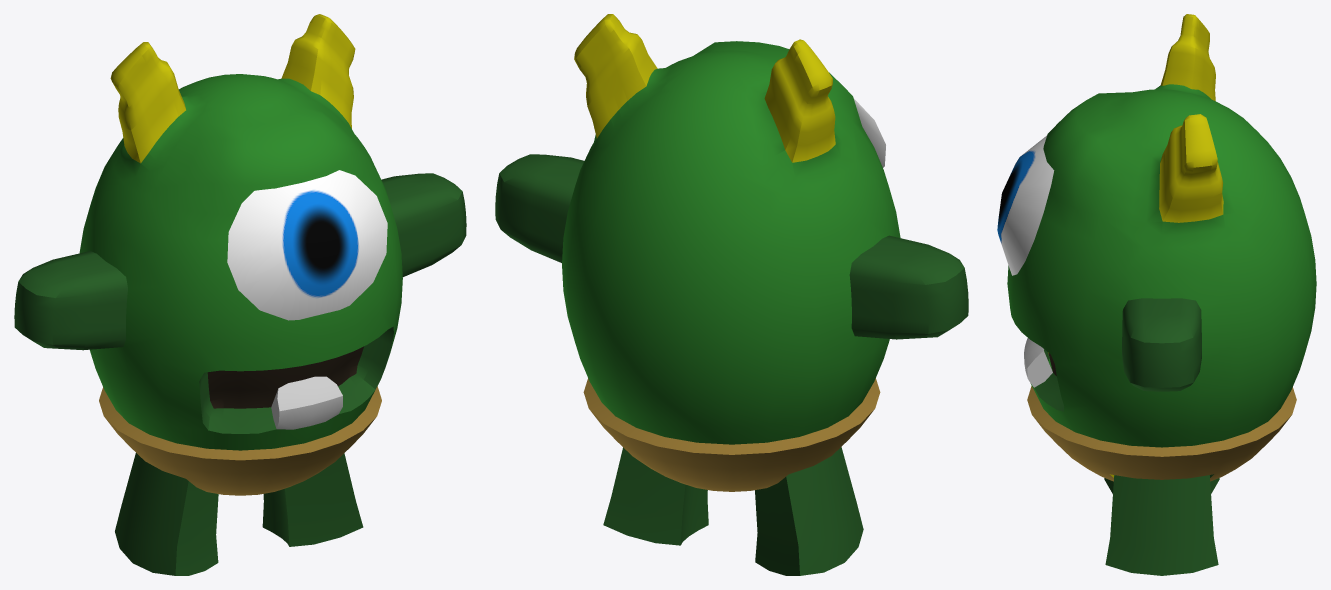
File: alien_fbx.fbx
3 views of the same model, side by side, from view 1: azimuth 30°, elevation 25°; view 2: azimuth 150°, elevation 25°; view 3: azimuth 270°, elevation 25° (orthographic). The views are drawn at different scales.
Parts seen in each view (by area): view 1: Ball, Eye; view 2: Ball, Eye; view 3: Ball, Eye.
Part boxes in pixels (box(x1,y1,x2,y2)): Ball: box(14, 14, 466, 575); Eye: box(227, 170, 387, 320); Ball: box(495, 14, 968, 575); Eye: box(853, 98, 885, 167); Ball: box(1007, 14, 1316, 575); Eye: box(997, 135, 1054, 275).
Size of the model in its own units: 205 by 231 by 137.
